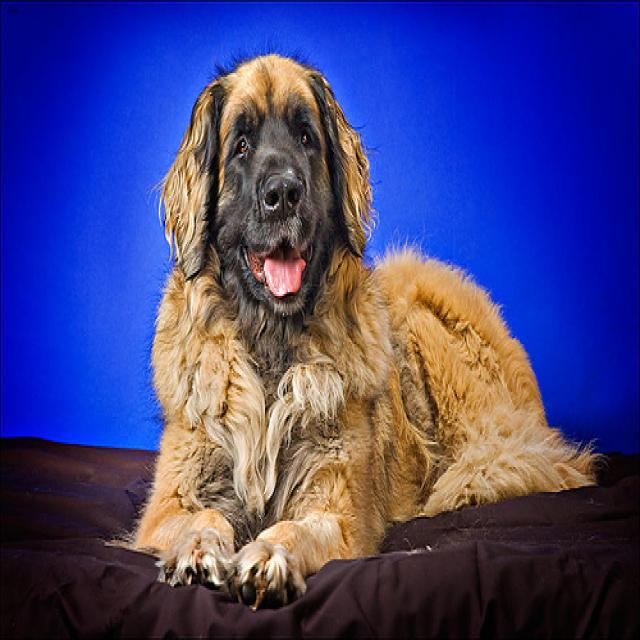dog-leonberger: (88, 27, 609, 615)
